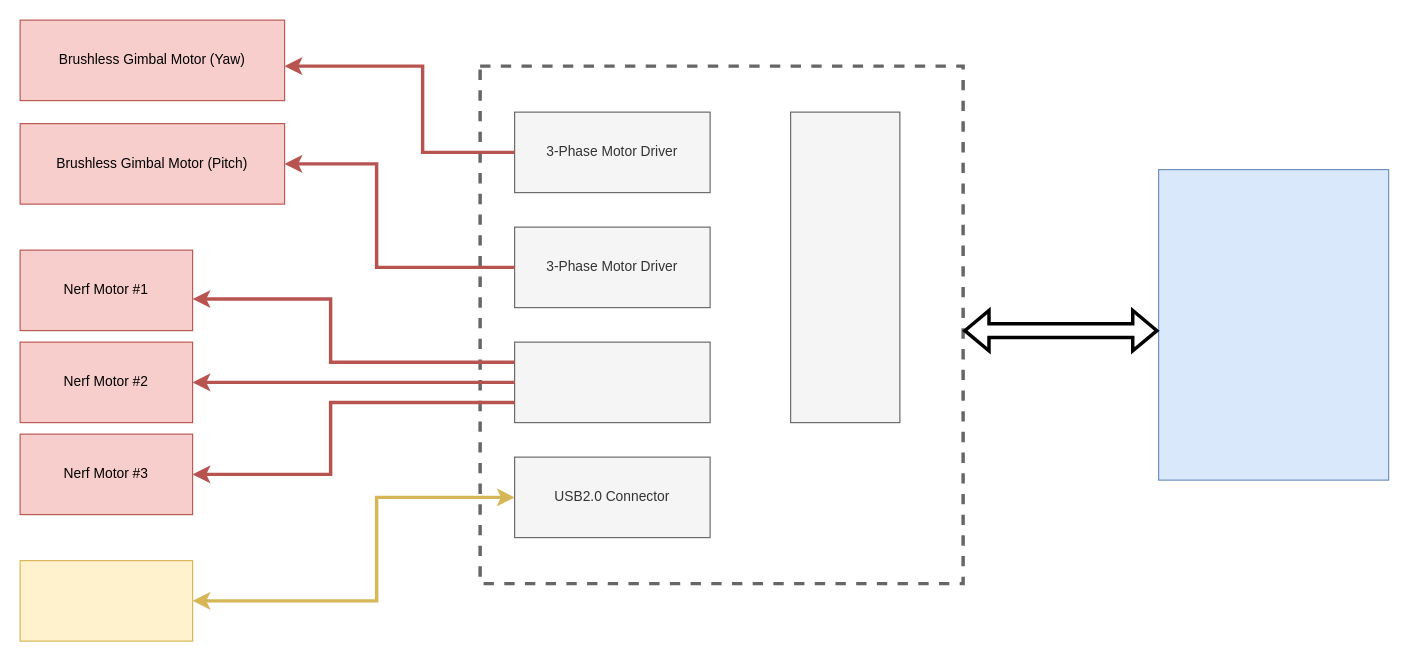
Some shapes in this 1409 by 661 pixel diagram are drawn without their labels. Each missing label, with the centre of its shape:
"BeagleBoard 1GHz ARM Cortex A8 512MB RAM" goes at [1273,324].
"Nerf Motor Driver FETs" goes at [611,382].
"Regulators" goes at [844,267].
"USB Camera" goes at [106,600].
